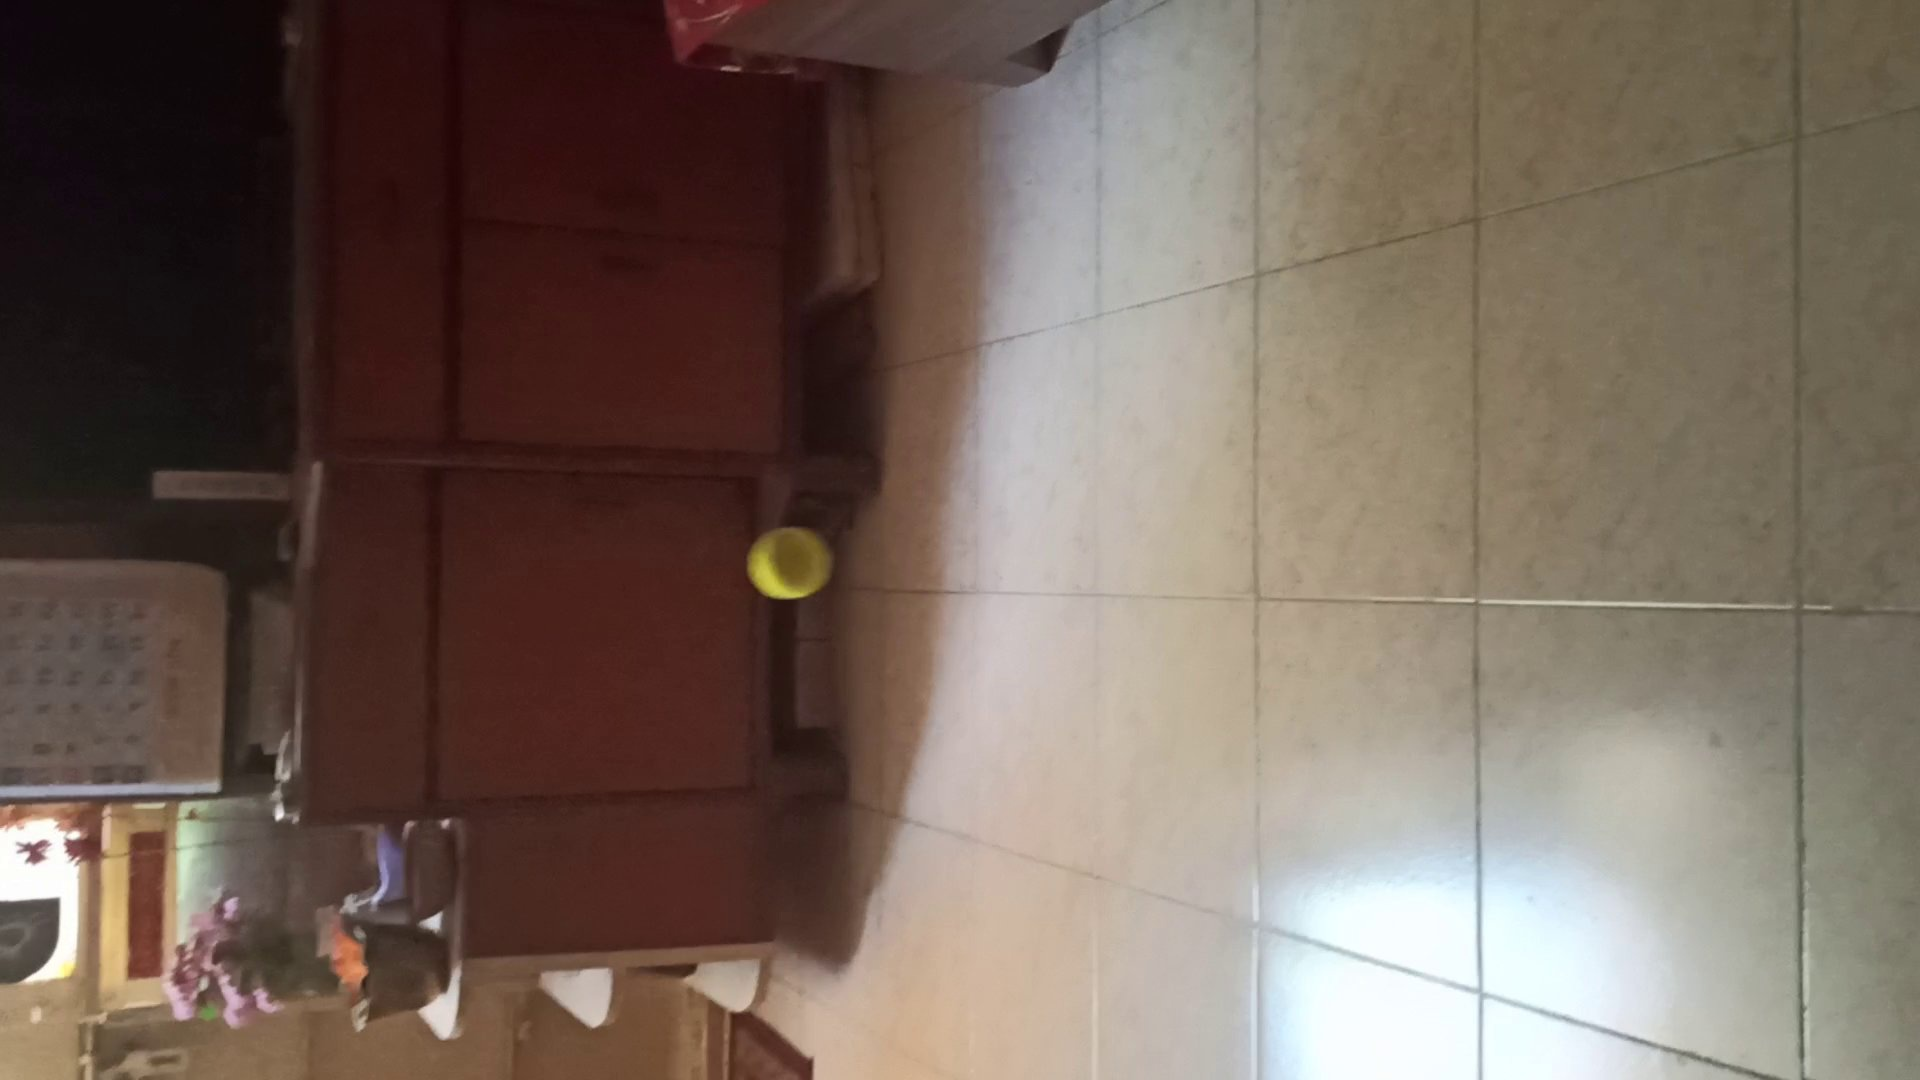Tennis-Ball: (746, 527, 832, 597)
